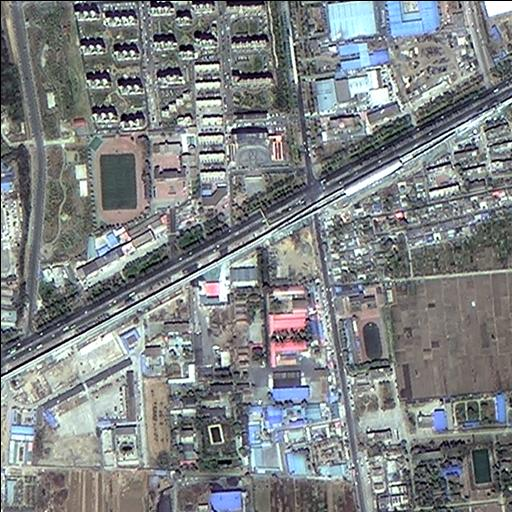school: (84, 127, 197, 236), (332, 285, 391, 370)
